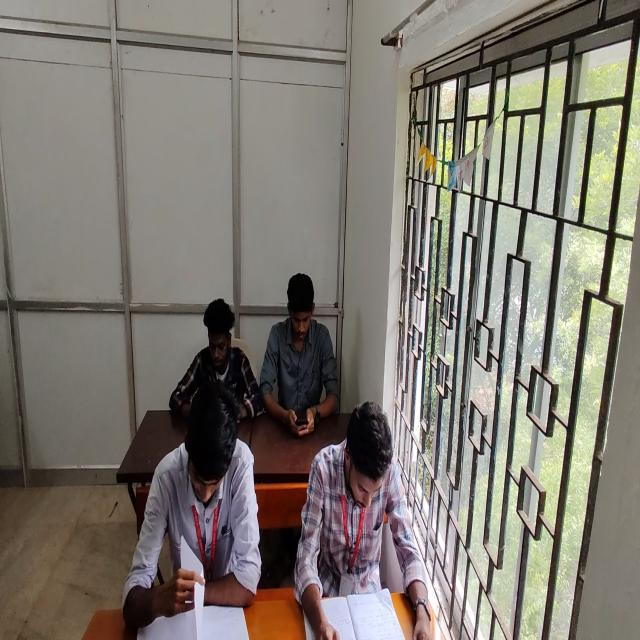reading: (287, 390, 452, 640), (116, 377, 264, 632), (156, 292, 263, 426)
using_mobile: (253, 265, 359, 441)
